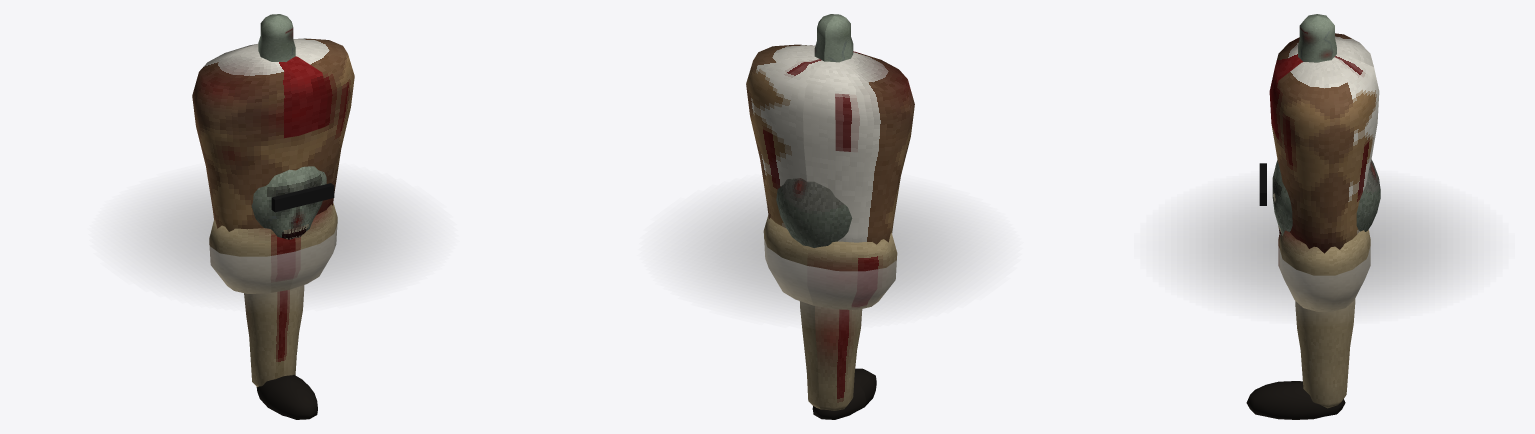
3 views of the same model, side by side, from view 1: azimuth 30°, elevation 25°; view 2: azimuth 150°, elevation 25°; view 3: azimuth 270°, elevation 25° (orthographic). The views are drawn at different scales.
Parts seen in each view (by area): view 1: root__x__9, spine__x__1, core__x__0, legL1__x__10, head__h__3, legL2__x__12, spine__x__2, head__h__4; view 2: root__x__9, spine__x__1, core__x__0, legL1__x__10, head__h__3, spine__x__2, legL2__x__12; view 3: root__x__9, spine__x__1, core__x__0, legL1__x__10, legL2__x__12, head__h__3, spine__x__2.
Part boxes in pixels (x1,y1,x2,y2): root__x__9: (114,173,432,302); spine__x__1: (192,38,354,231); core__x__0: (209,203,337,293); legL1__x__10: (244,285,304,386); head__h__3: (251,166,326,239); legL2__x__12: (256,375,317,419); spine__x__2: (258,14,295,61); head__h__4: (271,183,334,212); root__x__9: (665,185,995,318); spine__x__1: (746,44,914,244); core__x__0: (763,215,897,309); legL1__x__10: (800,301,862,410); head__h__3: (776,178,852,247); spine__x__2: (814,14,853,62); legL2__x__12: (812,368,876,419); root__x__9: (1159,181,1489,315); spine__x__1: (1269,33,1379,253); core__x__0: (1278,229,1370,311); legL1__x__10: (1295,299,1355,408); legL2__x__12: (1246,381,1345,419); head__h__3: (1272,159,1380,235); spine__x__2: (1298,14,1336,62).
Bounding box in the file's own units: 1.16 × 1.29 × 1.16.
7 materials, 5 textured.
